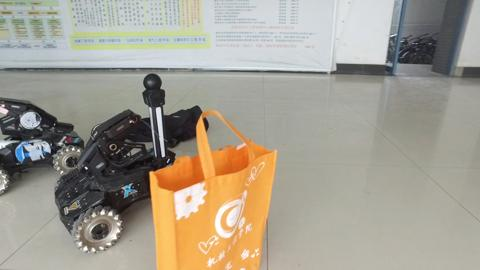bag: (147, 106, 270, 270)
chariot: (55, 71, 170, 252), (1, 94, 79, 193)
